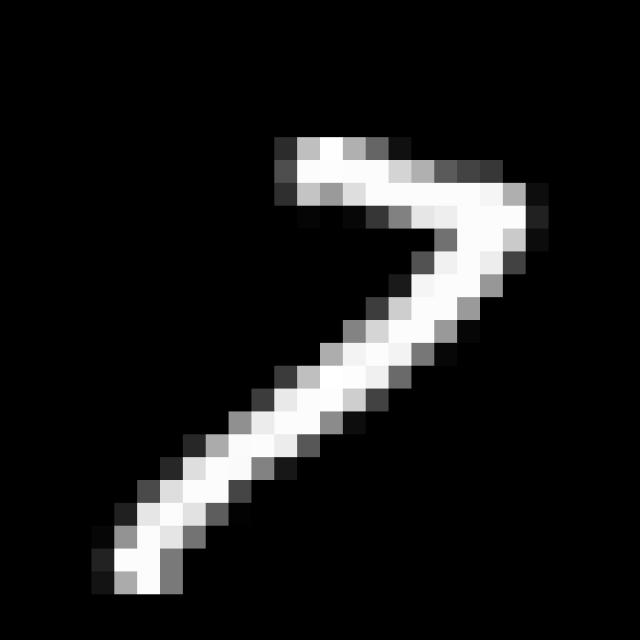seven -7-: (94, 108, 540, 612)
